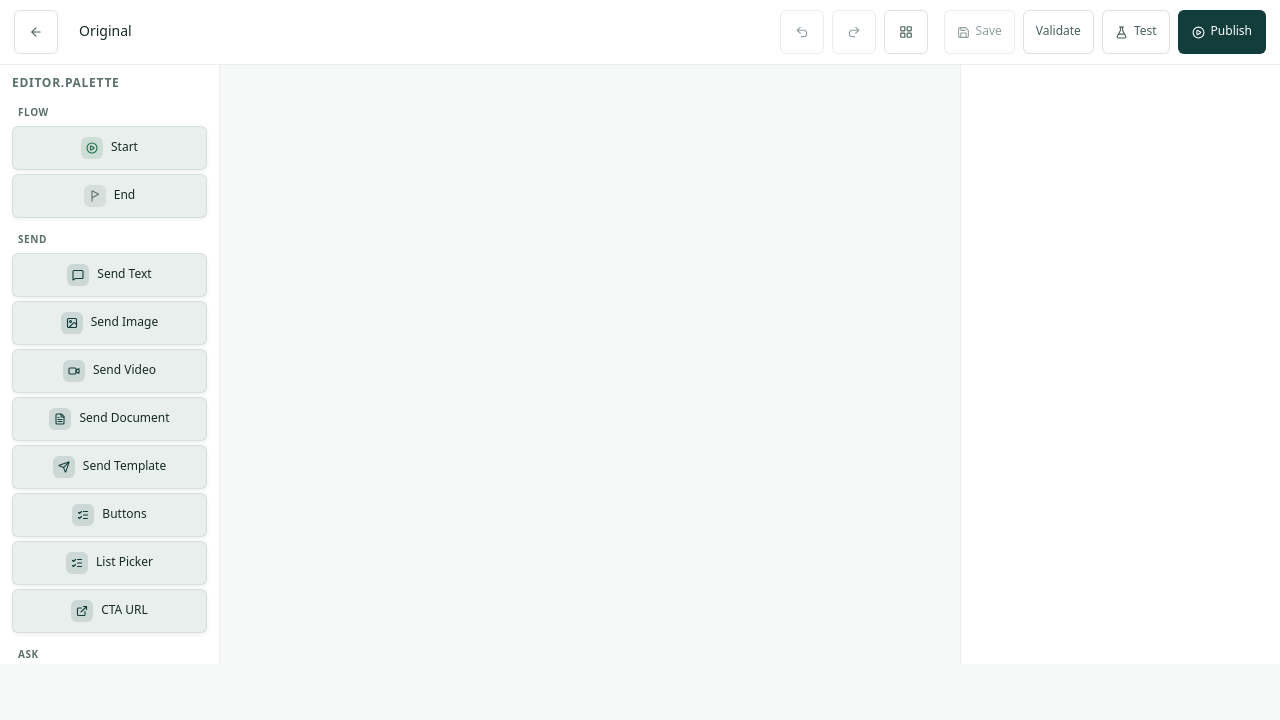
it: late save cannot erase newer edits or claim those edits saved
Replace the text in the field named "editor.flowName" with "Submitted" at (248, 32), box [68,10,428,54]
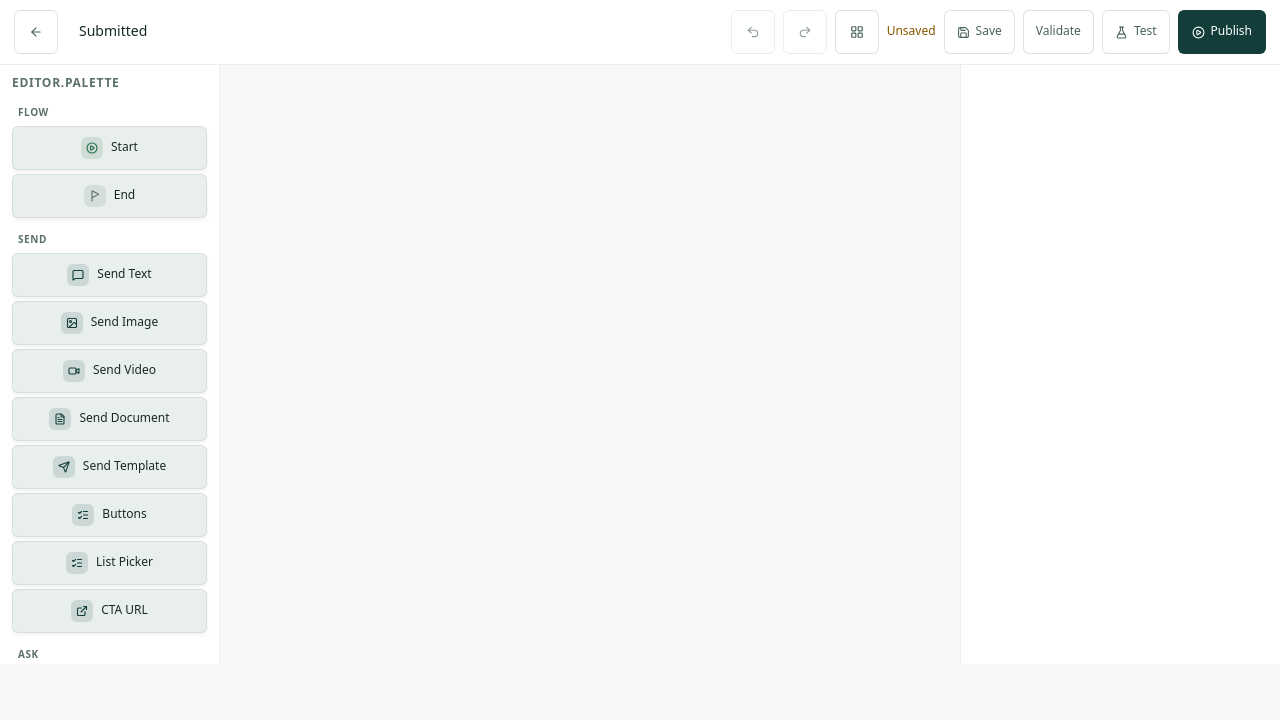
Click the button "Save".
click(979, 32)  # box [944,10,1015,54]
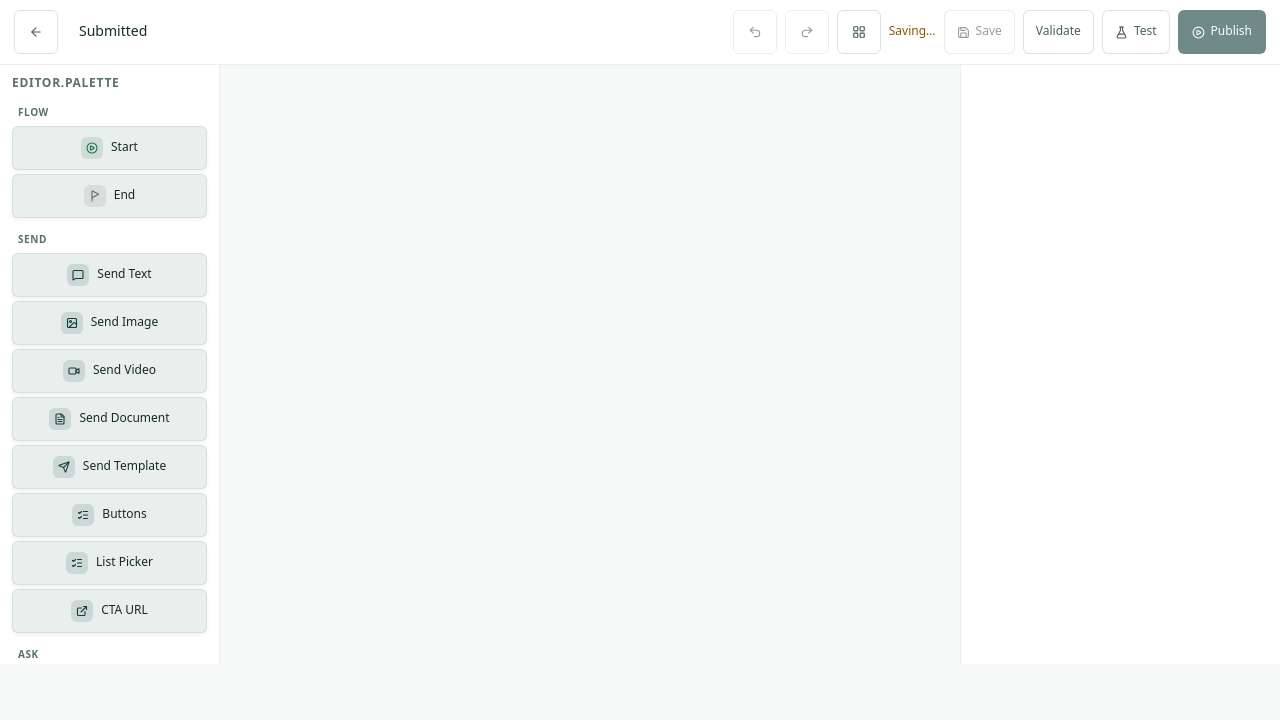
Replace the text in the field named "editor.flowName" with "Newer private draft" at (248, 32), box [68,10,428,54]
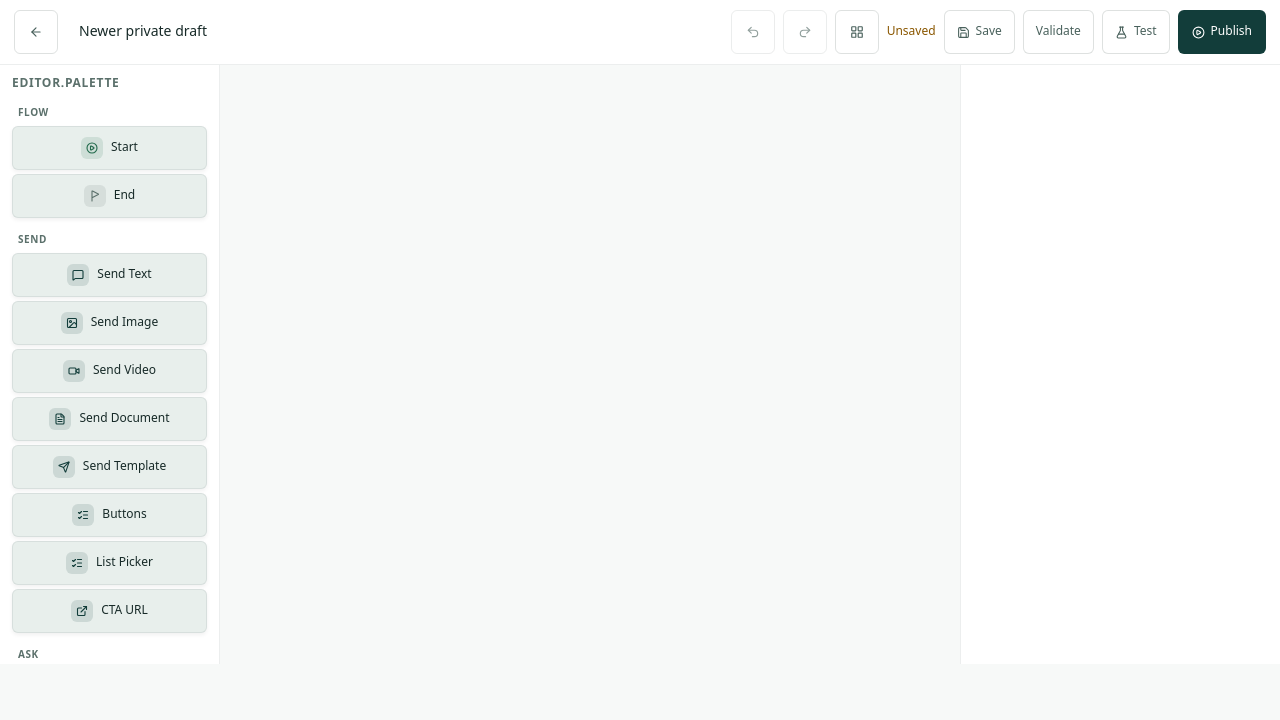
Expected: the text "Unsaved" is shown, [887,23,936,41]
